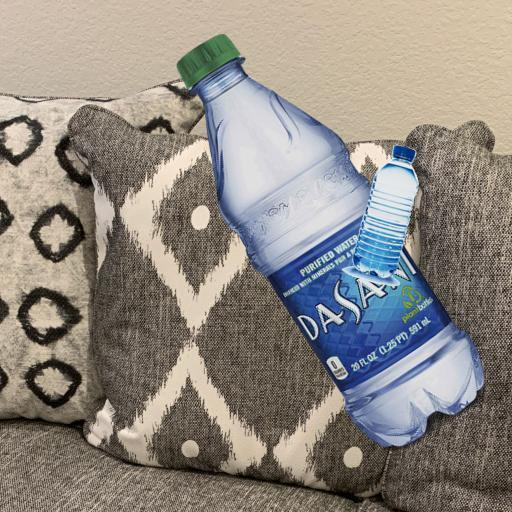bottle: (175, 27, 485, 449), (353, 128, 425, 284)
